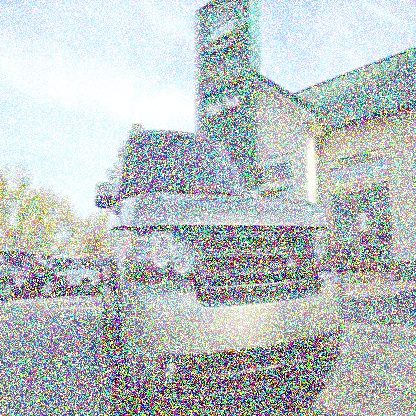Vehicle: (94, 125, 348, 415)
